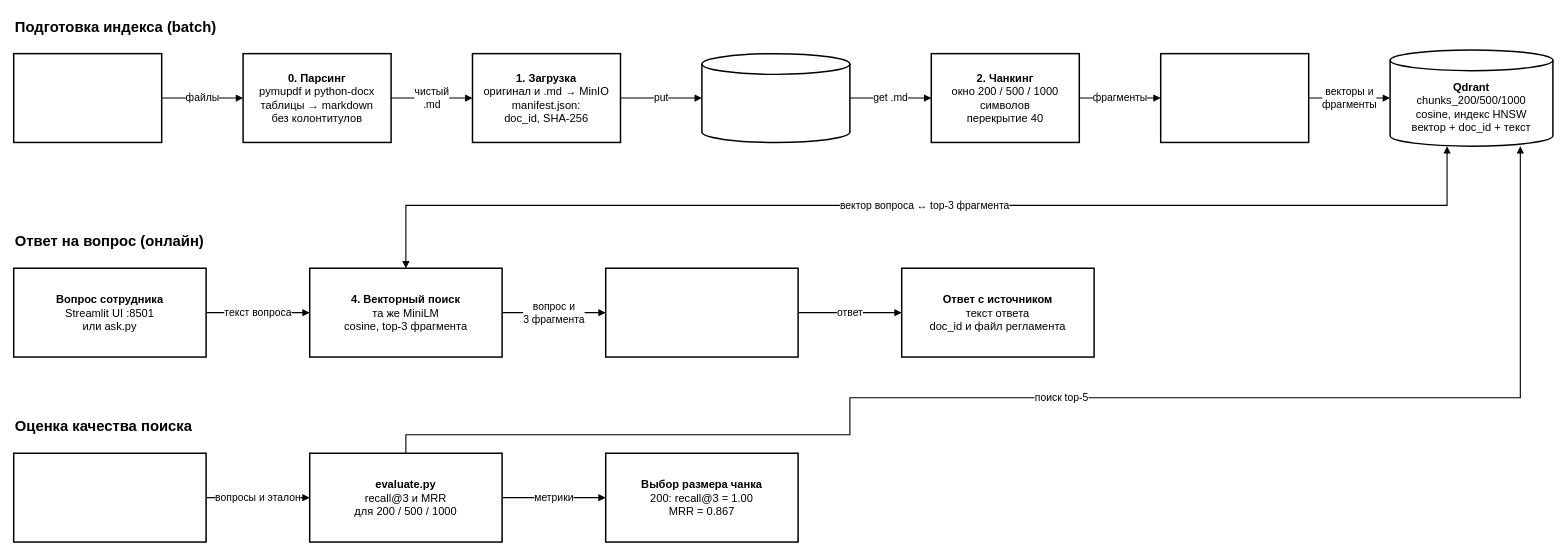
This 1566x555 diagram has some shape labels left out. The centre of each missing label's shape, as x and y in pixels:
3. Эмбеддинги MiniLM-L12 multilingual вектор размером 384: [1234,98]
5. Генерация Ollama qwen2.5:1.5b «отвечай только по контексту»: [701,312]
gold.csv 15 вопросов → правильный doc_id: [109,497]
MinIO bucket rag raw/ и documents/: [775,98]
Регламенты 3 PDF + 2 DOCX папка data/raw: [87,98]
